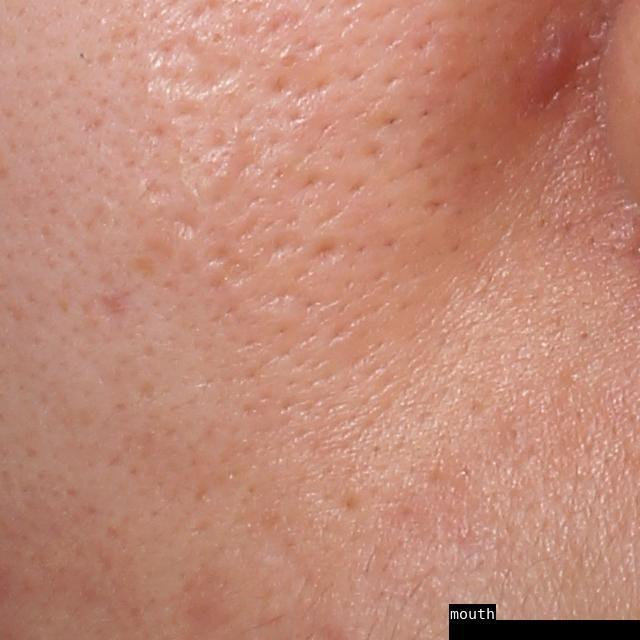atrophic_scar: (144, 27, 246, 110), (154, 195, 204, 244), (203, 238, 254, 284), (94, 294, 134, 326), (306, 238, 344, 266)
papule: (520, 17, 581, 113)
